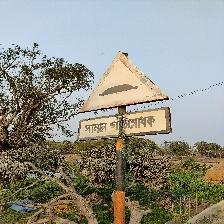Speed-breaker: (76, 52, 173, 138)
